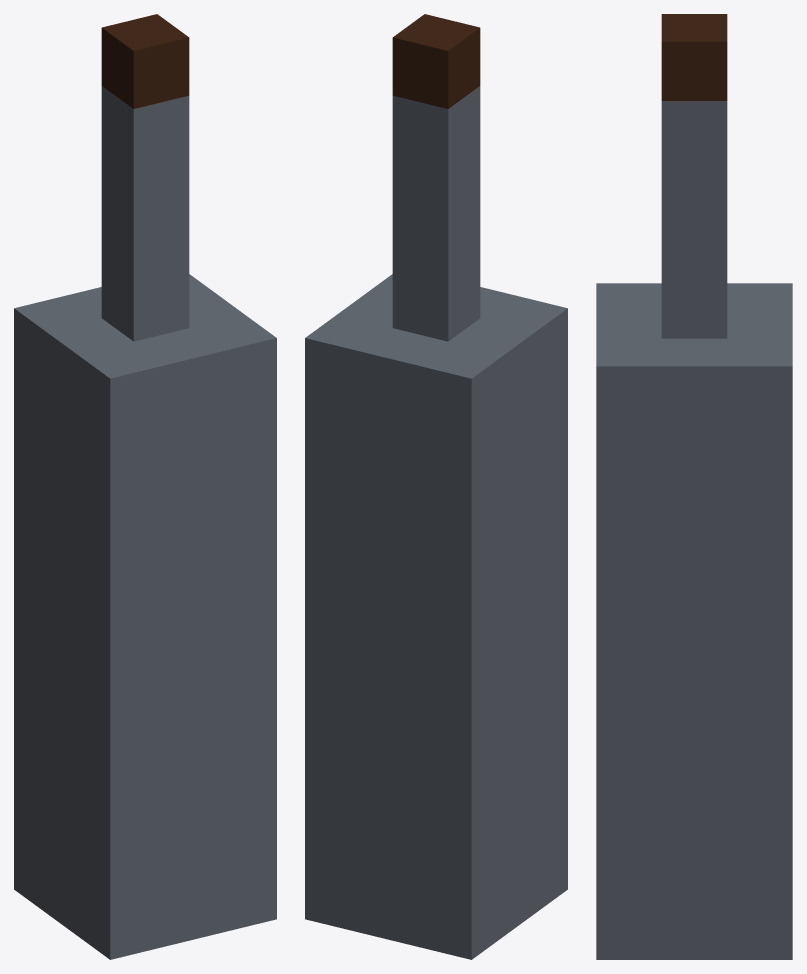
The model's file is Bottle.obj.
The picture shows the model from 3 angles, left to right: view 1: azimuth 30°, elevation 25°; view 2: azimuth 150°, elevation 25°; view 3: azimuth 270°, elevation 25°; orthographic projection. The views are drawn at different scales.
Visible parts, largest first — view 1: Bottle; view 2: Bottle; view 3: Bottle.
Boxes of the visible parts, x1,y1,x2,y2 form: Bottle: [14, 14, 276, 959]; Bottle: [305, 14, 567, 959]; Bottle: [596, 14, 792, 959].
Bounding box in the file's own units: 0.3 × 1.5 × 0.3.
